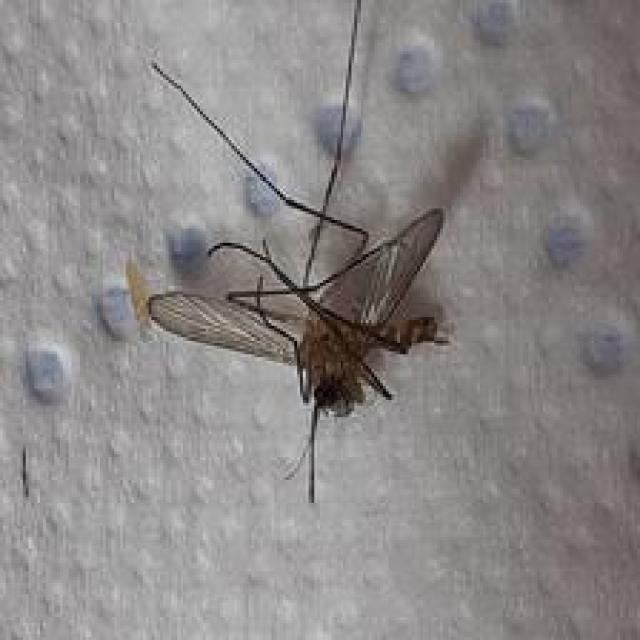Culex: (127, 0, 453, 503)
